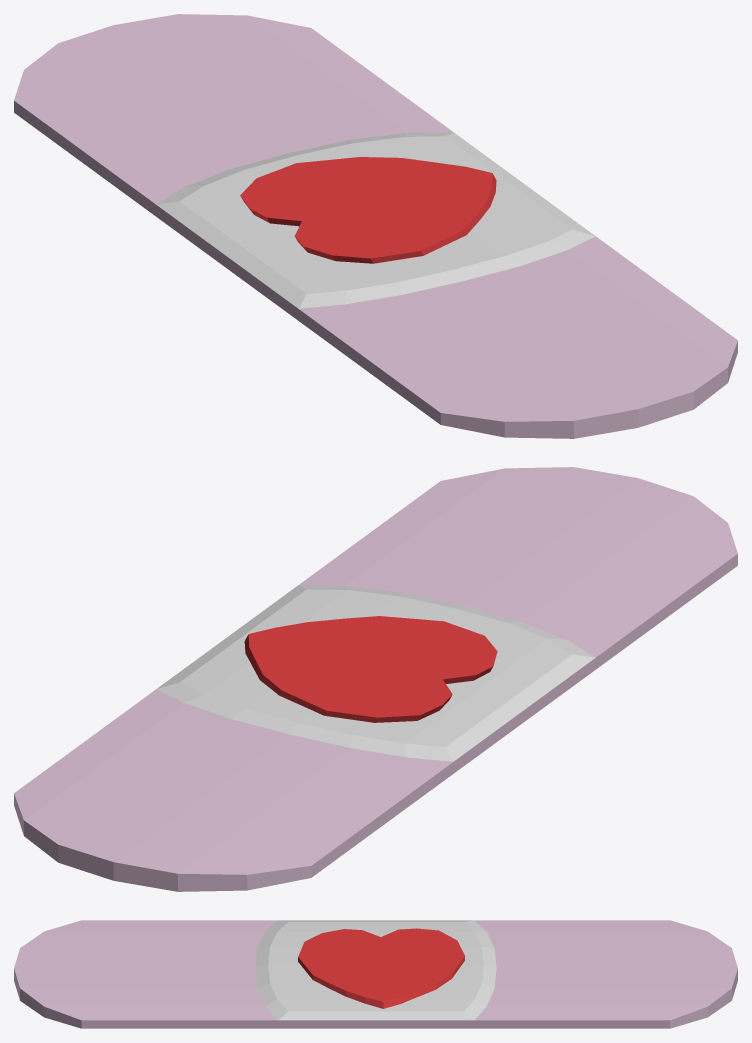
Rendered from BandAid.fbx.
3 renders of one model, top to bottom at view 1: azimuth 30°, elevation 25°; view 2: azimuth 150°, elevation 25°; view 3: azimuth 270°, elevation 25°, orthographic. The views are drawn at different scales.
Visible parts, largest first — view 1: Band-Aid; view 2: Band-Aid; view 3: Band-Aid.
Part boxes in pixels (x1=…): Band-Aid: x1=14, y1=14, x2=737, y2=438; Band-Aid: x1=14, y1=467, x2=737, y2=891; Band-Aid: x1=14, y1=920, x2=737, y2=1028.
Bounding box in the file's own units: 2 × 0.187 × 6.11.
